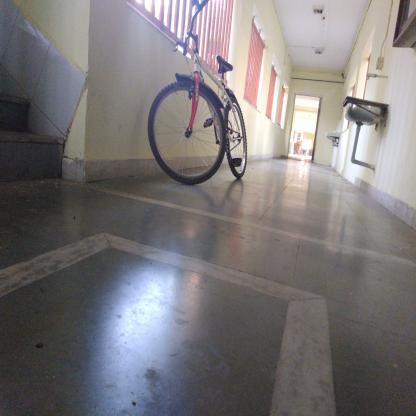stairs: (1, 94, 34, 194)
